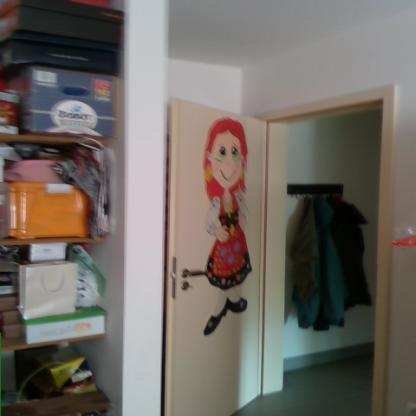open: (148, 86, 400, 413)
